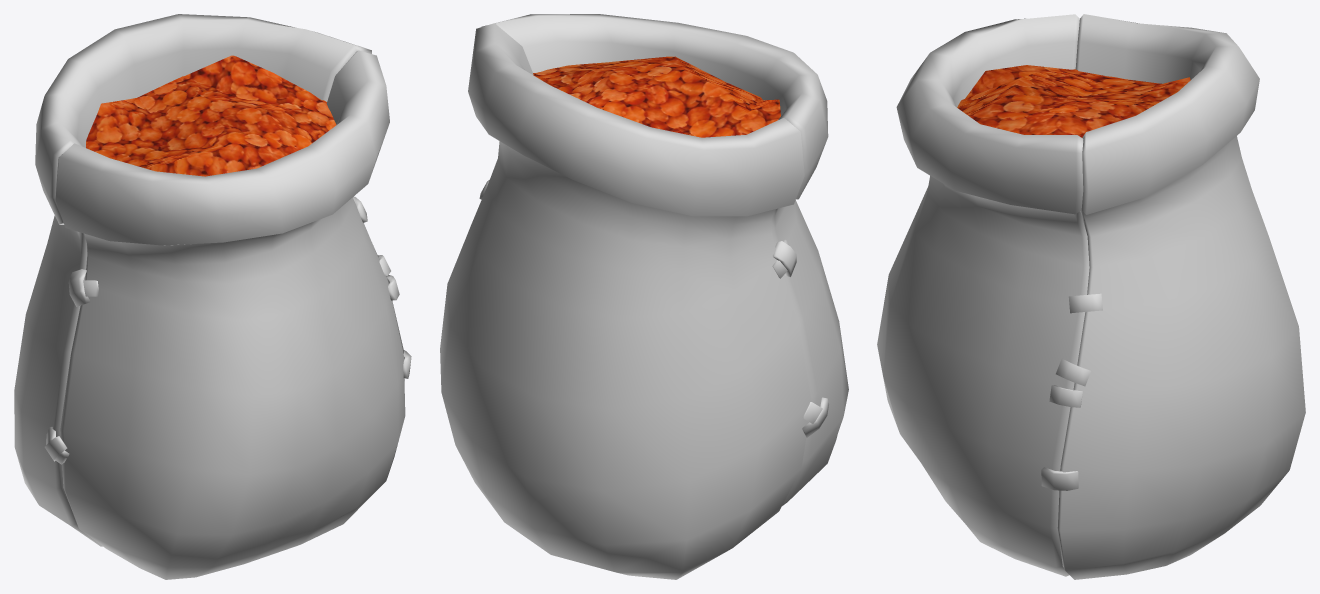
File: SM_Sack_D01.fbx
3 renders of one model, left to right at view 1: azimuth 30°, elevation 25°; view 2: azimuth 150°, elevation 25°; view 3: azimuth 270°, elevation 25°, orthographic. The views are drawn at different scales.
Visible parts, largest first — view 1: SM_Sack_D01; view 2: SM_Sack_D01; view 3: SM_Sack_D01.
Boxes of the visible parts, x1,y1,x2,y2 form: SM_Sack_D01: (14, 14, 411, 579); SM_Sack_D01: (440, 14, 848, 579); SM_Sack_D01: (877, 14, 1305, 579).
Size of the model in its own units: 210 by 210 by 265.
